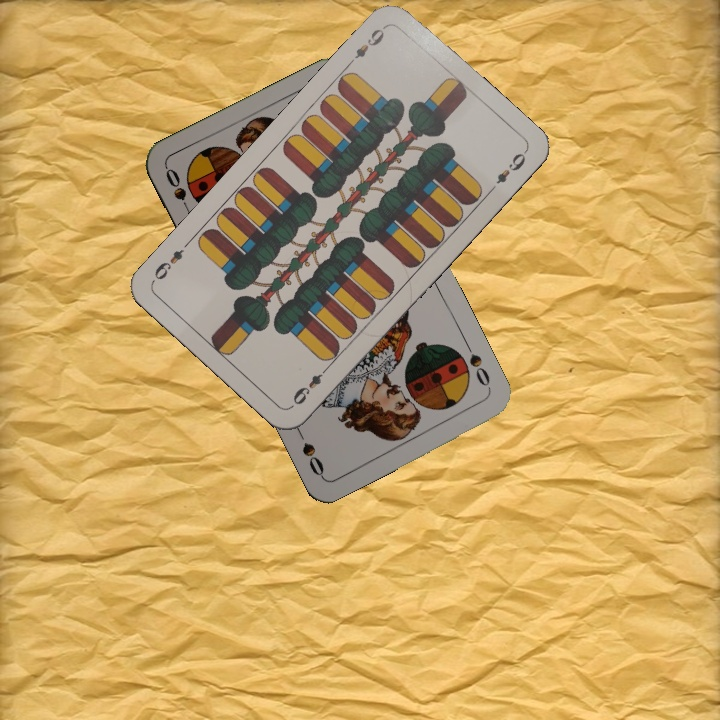E9: (344, 21, 389, 68), (288, 362, 332, 409)
SO: (161, 164, 195, 220), (461, 338, 494, 394)
